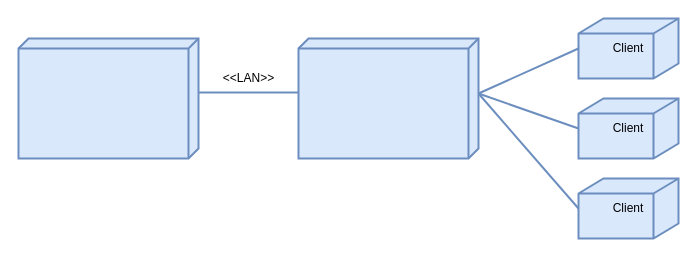
Some shapes in this 696 by 256 pixel diagram are drawn without their labels. Each missing label, with the centre of its shape:
Application Server: pixel 388 98
Database Server: pixel 108 98
